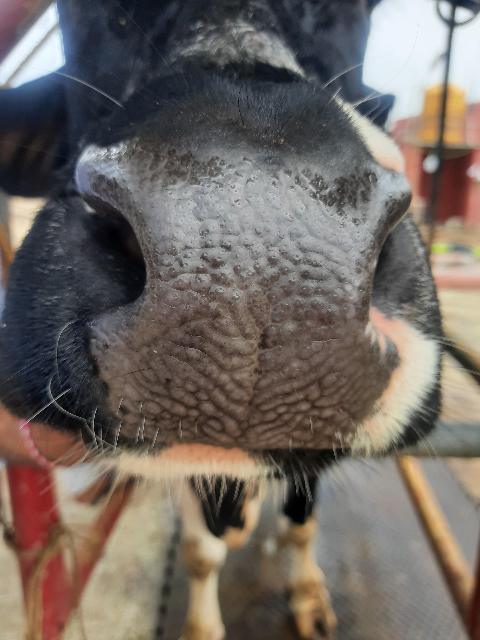Muzzle: (106, 148, 372, 440)
